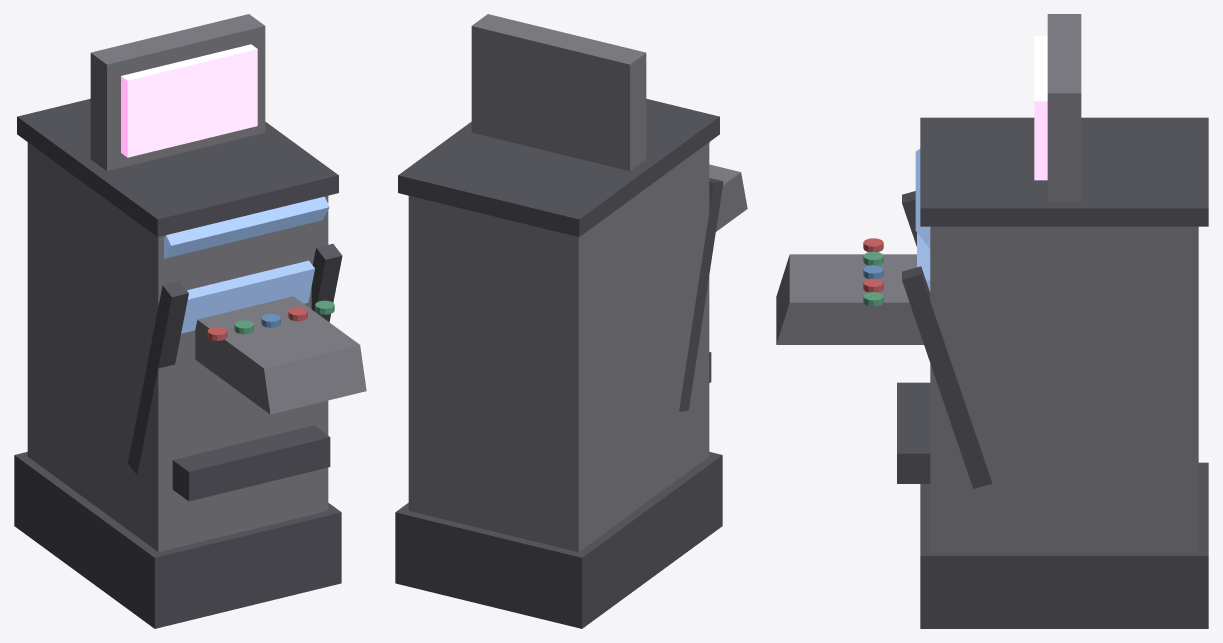
Rendered from casino-floor-and-back-rooms-slot-slant-bbca349f__27012.glb.
The picture shows the model from 3 angles, left to right: view 1: azimuth 30°, elevation 25°; view 2: azimuth 150°, elevation 25°; view 3: azimuth 270°, elevation 25°; orthographic projection. The views are drawn at different scales.
Visible parts, largest first — view 1: slot-slant; view 2: slot-slant; view 3: slot-slant.
Boxes of the visible parts, x1,y1,x2,y2 form: slot-slant: [14, 14, 366, 628]; slot-slant: [395, 14, 747, 628]; slot-slant: [776, 14, 1208, 628].
Bounding box in the file's own units: 0.6599 × 1.74 × 1.29.
